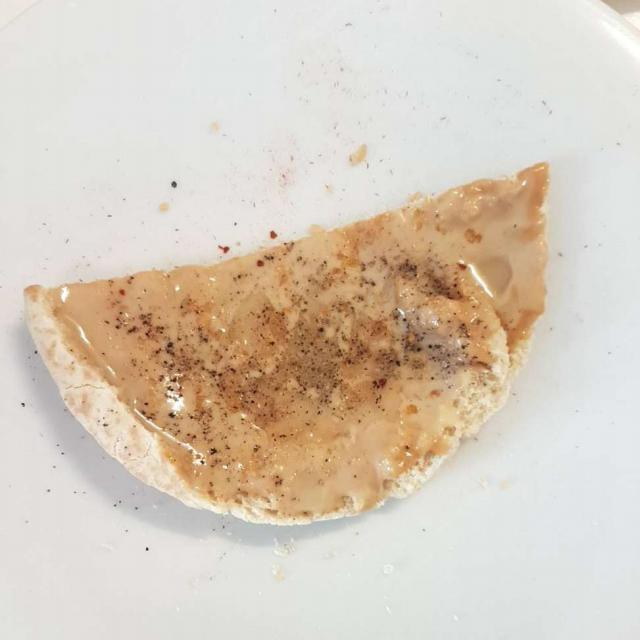bread: (24, 147, 544, 520)
peanut-butter: (67, 198, 525, 498)
